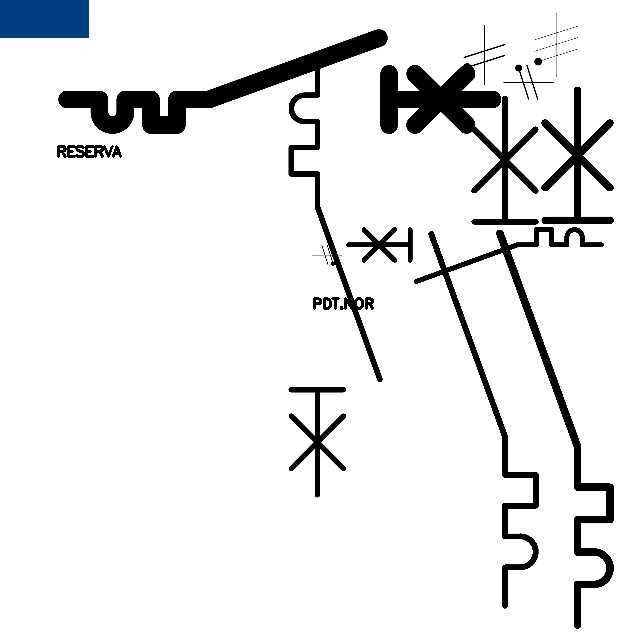interruptor_termomagnetico: (486, 76, 624, 638), (418, 85, 549, 619), (280, 51, 391, 506), (56, 27, 503, 136), (342, 223, 608, 288)
